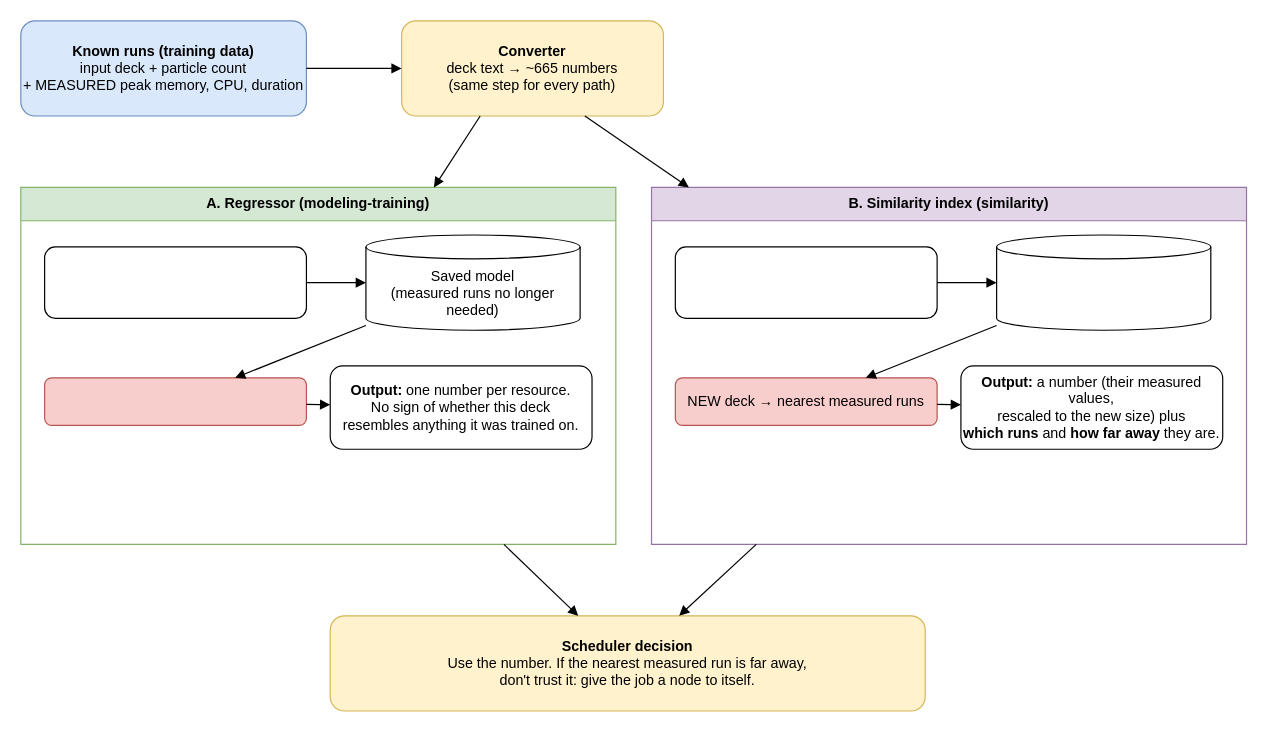
Some shapes in this 1267 by 732 pixel diagram are drawn without their labels. Here are the shapes that lost their labels. From the top down, the box of each, then its label:
(43, 246, 306, 318): Fit once: learn a function features → memory / duration
(674, 246, 937, 318): Fit once: learn a distance (which features matter for memory? for duration?)
(995, 234, 1211, 330): Index = the MEASURED runs + the distance
(43, 377, 306, 425): NEW deck → model
